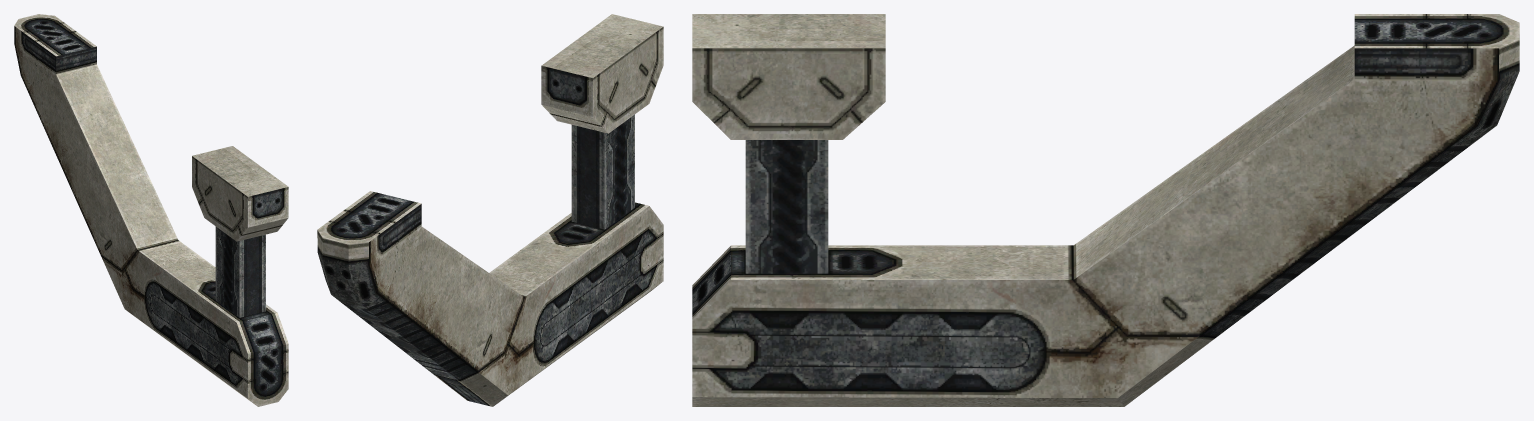
The model's file is catwalk_wall_support_white.dae.
3 views of the same model, side by side, from view 1: azimuth 30°, elevation 25°; view 2: azimuth 150°, elevation 25°; view 3: azimuth 270°, elevation 25° (orthographic). The views are drawn at different scales.
Visible parts, largest first — view 1: pCube10; view 2: pCube10; view 3: pCube10.
Boxes of the visible parts, <box> form: pCube10: <box>14,14,288,406</box>; pCube10: <box>317,14,663,406</box>; pCube10: <box>692,14,1519,406</box>.
Bounding box in the file's own units: 0.1887 × 0.9375 × 1.91.
